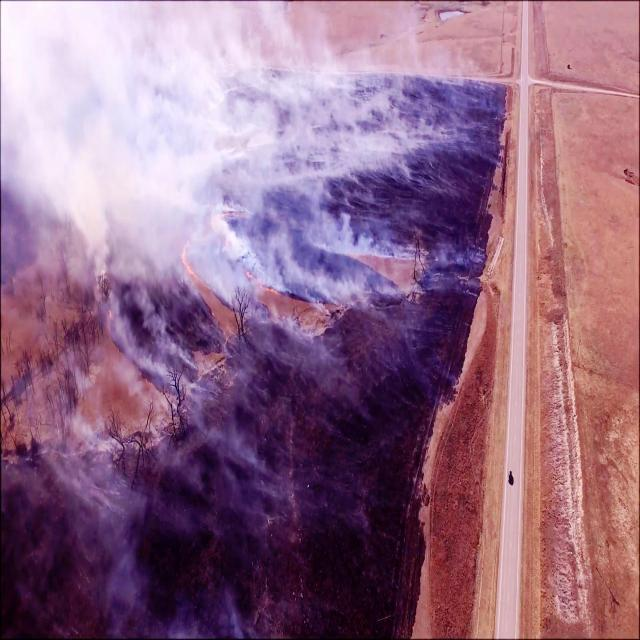Smoke: (0, 0, 141, 209), (198, 4, 294, 128), (141, 7, 213, 166), (208, 116, 282, 216), (267, 118, 352, 180), (144, 162, 196, 262), (295, 71, 362, 133), (110, 294, 167, 366), (274, 230, 324, 284), (347, 126, 398, 162), (310, 208, 354, 241), (325, 259, 362, 297), (363, 70, 396, 111), (346, 236, 376, 259)
